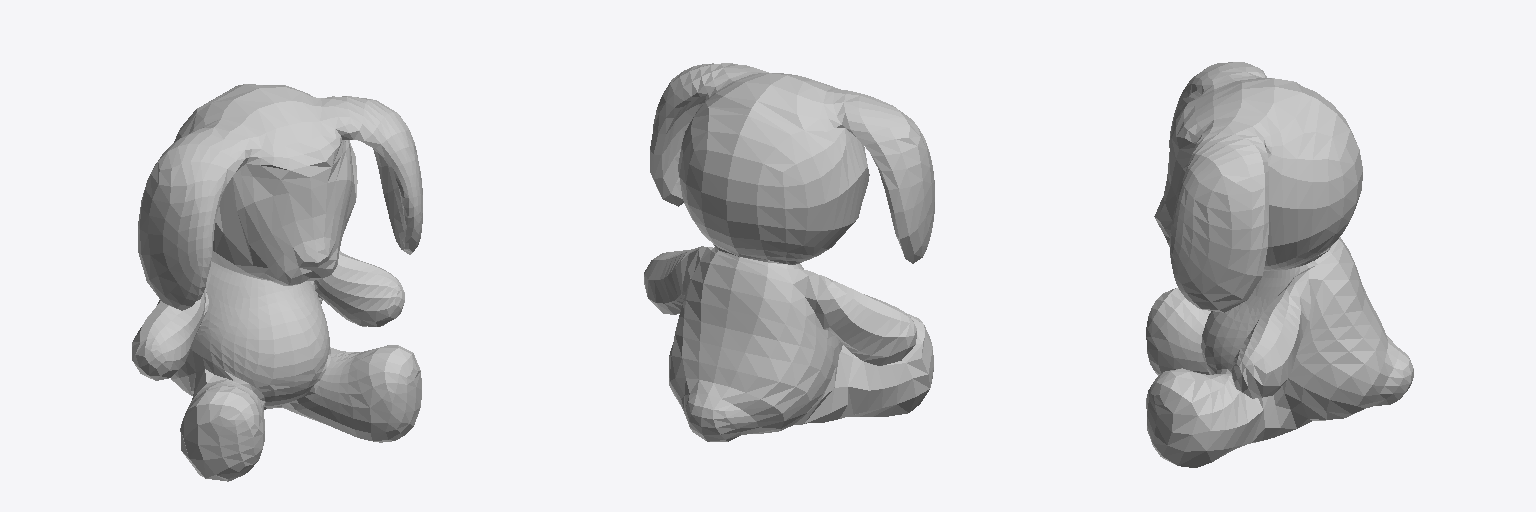
The model's file is toybunny.obj.
3 renders of one model, left to right at view 1: azimuth 30°, elevation 25°; view 2: azimuth 150°, elevation 25°; view 3: azimuth 270°, elevation 25°, orthographic.
Visible parts, largest first — view 1: bunny; view 2: bunny; view 3: bunny.
Part boxes in pixels (x1,y1,x2,y2): bunny: (132,84,422,481); bunny: (644,63,934,441); bunny: (1146,62,1413,467).
Bounding box in the file's own units: 156 × 189 × 135.